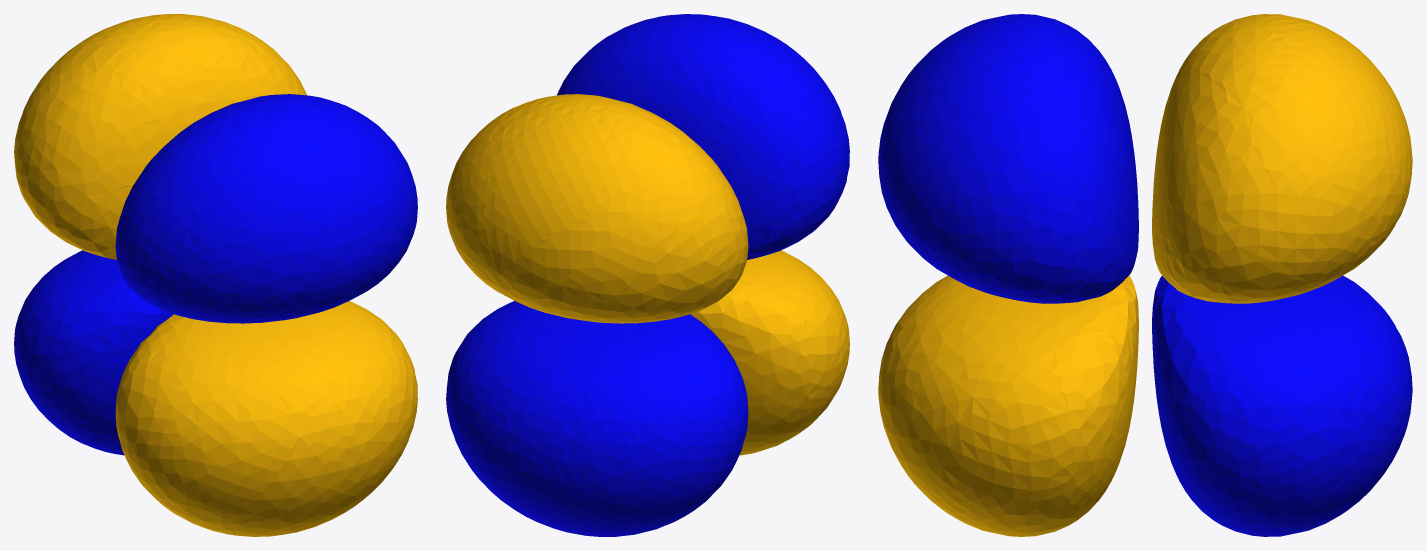
3 views of the same model, side by side, from view 1: azimuth 30°, elevation 25°; view 2: azimuth 150°, elevation 25°; view 3: azimuth 270°, elevation 25° (orthographic). The views are drawn at different scales.
Bounding box in the file's own units: 11.09 × 16.06 × 16.06.
